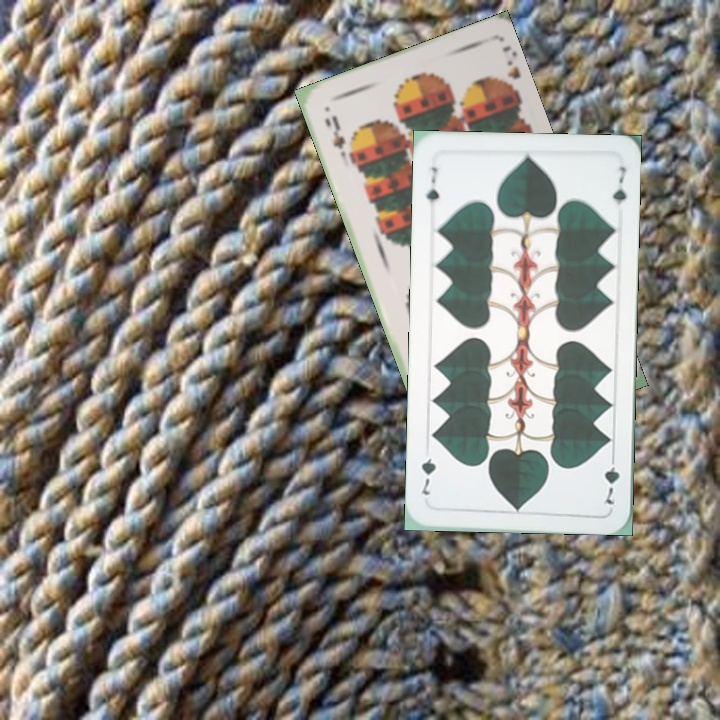G7: (600, 450, 622, 508), (423, 162, 442, 205)
S9: (321, 111, 348, 152)
